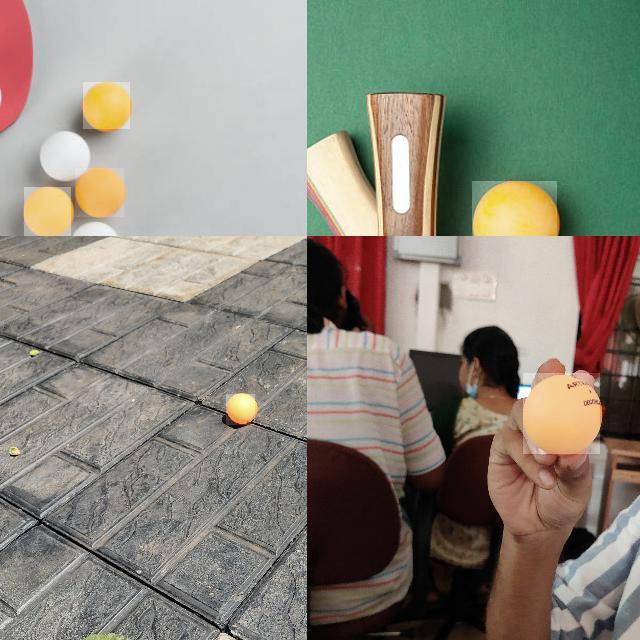ping-pong-ball: (523, 373, 601, 455), (472, 180, 559, 235), (75, 168, 125, 218), (24, 186, 73, 235), (82, 82, 132, 130), (226, 394, 256, 426)
